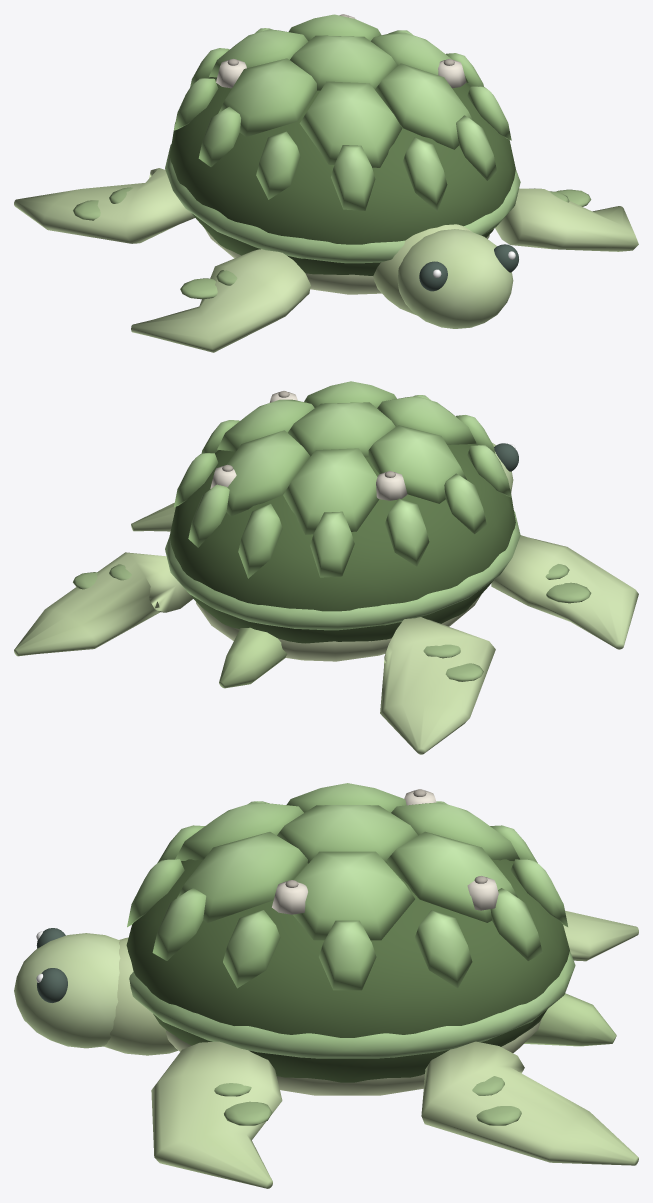
Rendered from enemigo-tortuga.glb.
3 renders of one model, top to bottom at view 1: azimuth 30°, elevation 25°; view 2: azimuth 150°, elevation 25°; view 3: azimuth 270°, elevation 25°, orthographic. The views are drawn at different scales.
Parts seen in each view (by area): view 1: Shell, Body, Flipper_FL, Flipper_BL, Flipper_FR; view 2: Shell, Flipper_BL, Flipper_BR, Flipper_FL, Body, Flipper_FR; view 3: Shell, Body, Flipper_BR, Flipper_FR, Flipper_BL.
Boxes of the visible parts, box(x1,y1,x2,y2) form: Shell: box(165, 14, 520, 275); Body: box(204, 224, 518, 328); Flipper_FL: box(131, 249, 310, 352); Flipper_BL: box(14, 168, 194, 243); Flipper_FR: box(495, 188, 638, 251); Shell: box(165, 381, 520, 643); Flipper_BL: box(380, 617, 495, 754); Flipper_BR: box(14, 552, 192, 656); Flipper_FL: box(491, 535, 638, 649); Body: box(196, 443, 518, 688); Flipper_FR: box(131, 503, 175, 531); Shell: box(126, 783, 575, 1082); Body: box(14, 928, 616, 1095); Flipper_BR: box(421, 1041, 638, 1165); Flipper_FR: box(151, 1041, 282, 1188); Flipper_BL: box(563, 910, 638, 961).
Size of the model in its own units: 1 by 0.4274 by 0.942.
